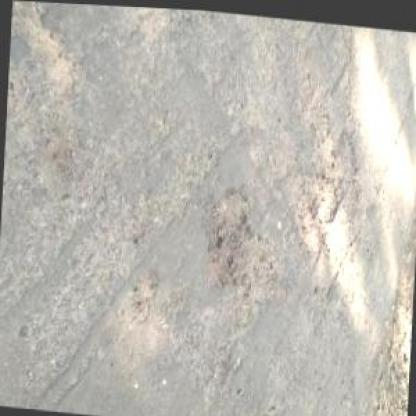pothole: (197, 180, 255, 291), (286, 164, 340, 252), (126, 265, 160, 323)
